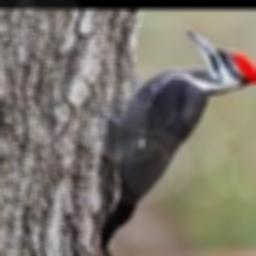Woodpecker: (93, 29, 256, 256)
